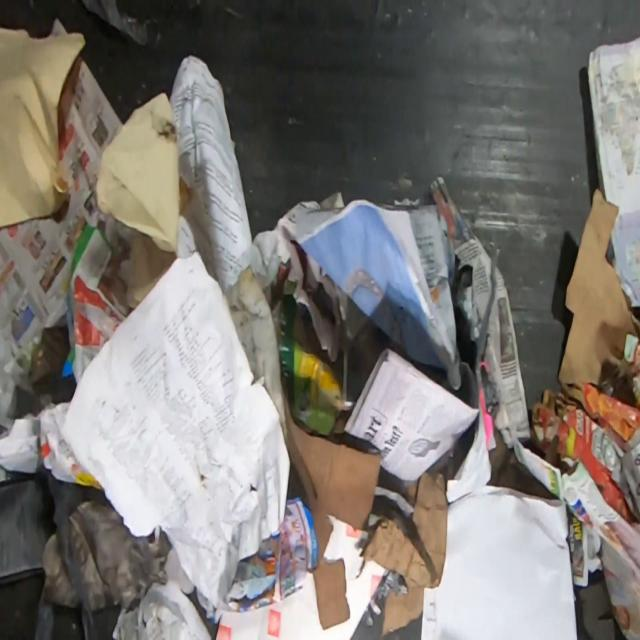cardboard: (285, 396, 381, 632), (0, 28, 86, 228), (555, 185, 640, 387), (528, 380, 640, 524), (358, 471, 449, 640)
soft_plastic: (82, 0, 162, 50)
